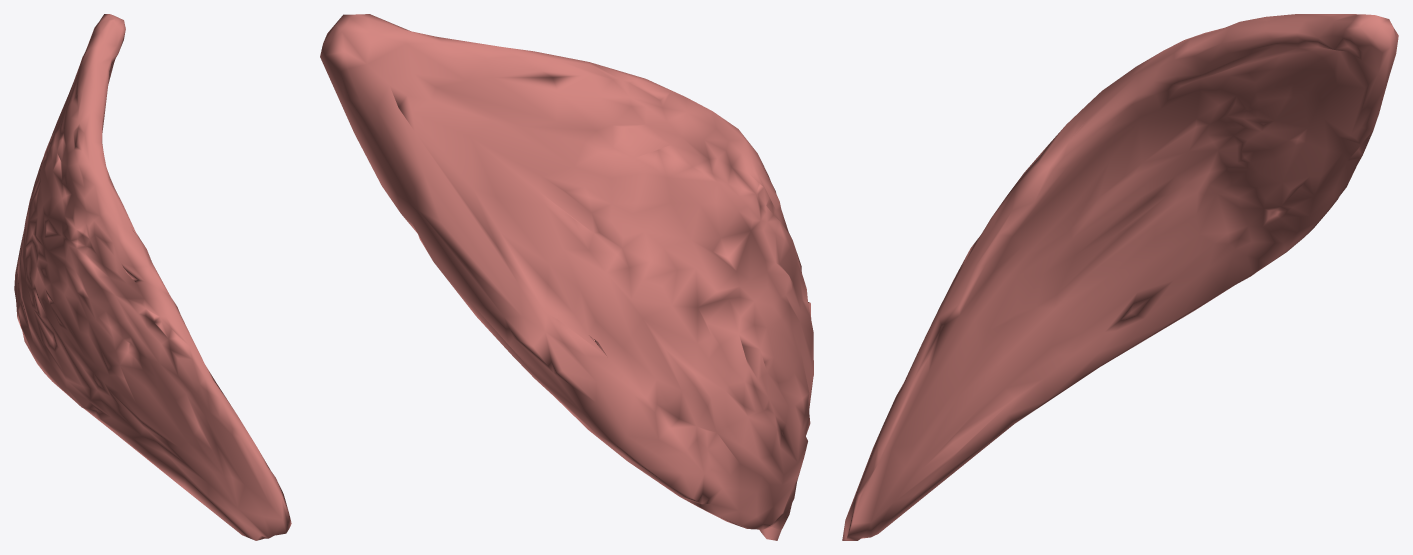
The picture shows the model from 3 angles, left to right: view 1: azimuth 30°, elevation 25°; view 2: azimuth 150°, elevation 25°; view 3: azimuth 270°, elevation 25°; orthographic projection. The views are drawn at different scales.
Parts seen in each view (by area): view 1: ZA_2c067ee097aa43f4; view 2: ZA_2c067ee097aa43f4; view 3: ZA_2c067ee097aa43f4.
Boxes of the visible parts, <box> form: ZA_2c067ee097aa43f4: <box>14,14,291,540</box>; ZA_2c067ee097aa43f4: <box>320,14,813,540</box>; ZA_2c067ee097aa43f4: <box>842,14,1398,540</box>.
Bounding box in the file's own units: 0.00444 × 0.0107 × 0.00995.
